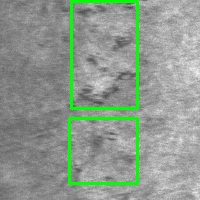rolled-in_scale: (71, 1, 137, 108), (70, 118, 137, 183)
